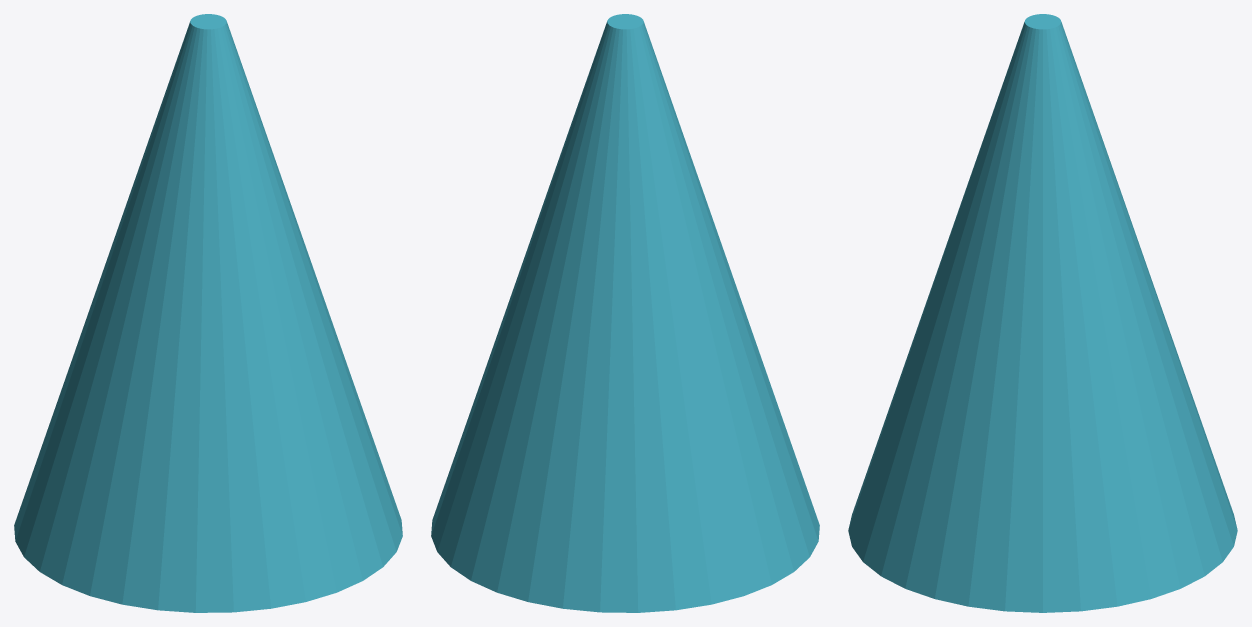
The model's file is water1.fbx.
3 views of the same model, side by side, from view 1: azimuth 30°, elevation 25°; view 2: azimuth 150°, elevation 25°; view 3: azimuth 270°, elevation 25° (orthographic).
Visible parts, largest first — view 1: Water; view 2: Water; view 3: Water.
Boxes of the visible parts, box(x1,y1,x2,y2) form: Water: box(14, 14, 402, 612); Water: box(431, 14, 819, 612); Water: box(848, 14, 1237, 612).
Size of the model in its own units: 360 by 519 by 360.
